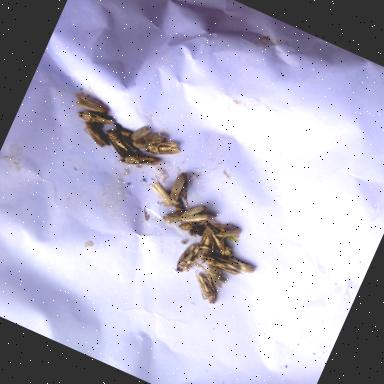pbw: (170, 239, 224, 288), (116, 141, 168, 181), (177, 198, 225, 238), (194, 221, 242, 261), (165, 170, 203, 212), (198, 250, 246, 283), (143, 174, 182, 211), (186, 270, 226, 306), (72, 118, 116, 150), (100, 126, 140, 161), (70, 92, 116, 122), (142, 132, 183, 165), (130, 124, 168, 158), (74, 102, 116, 132), (150, 200, 188, 229), (190, 226, 221, 259), (208, 218, 242, 245), (201, 263, 230, 289), (226, 254, 258, 276), (128, 122, 152, 146)
